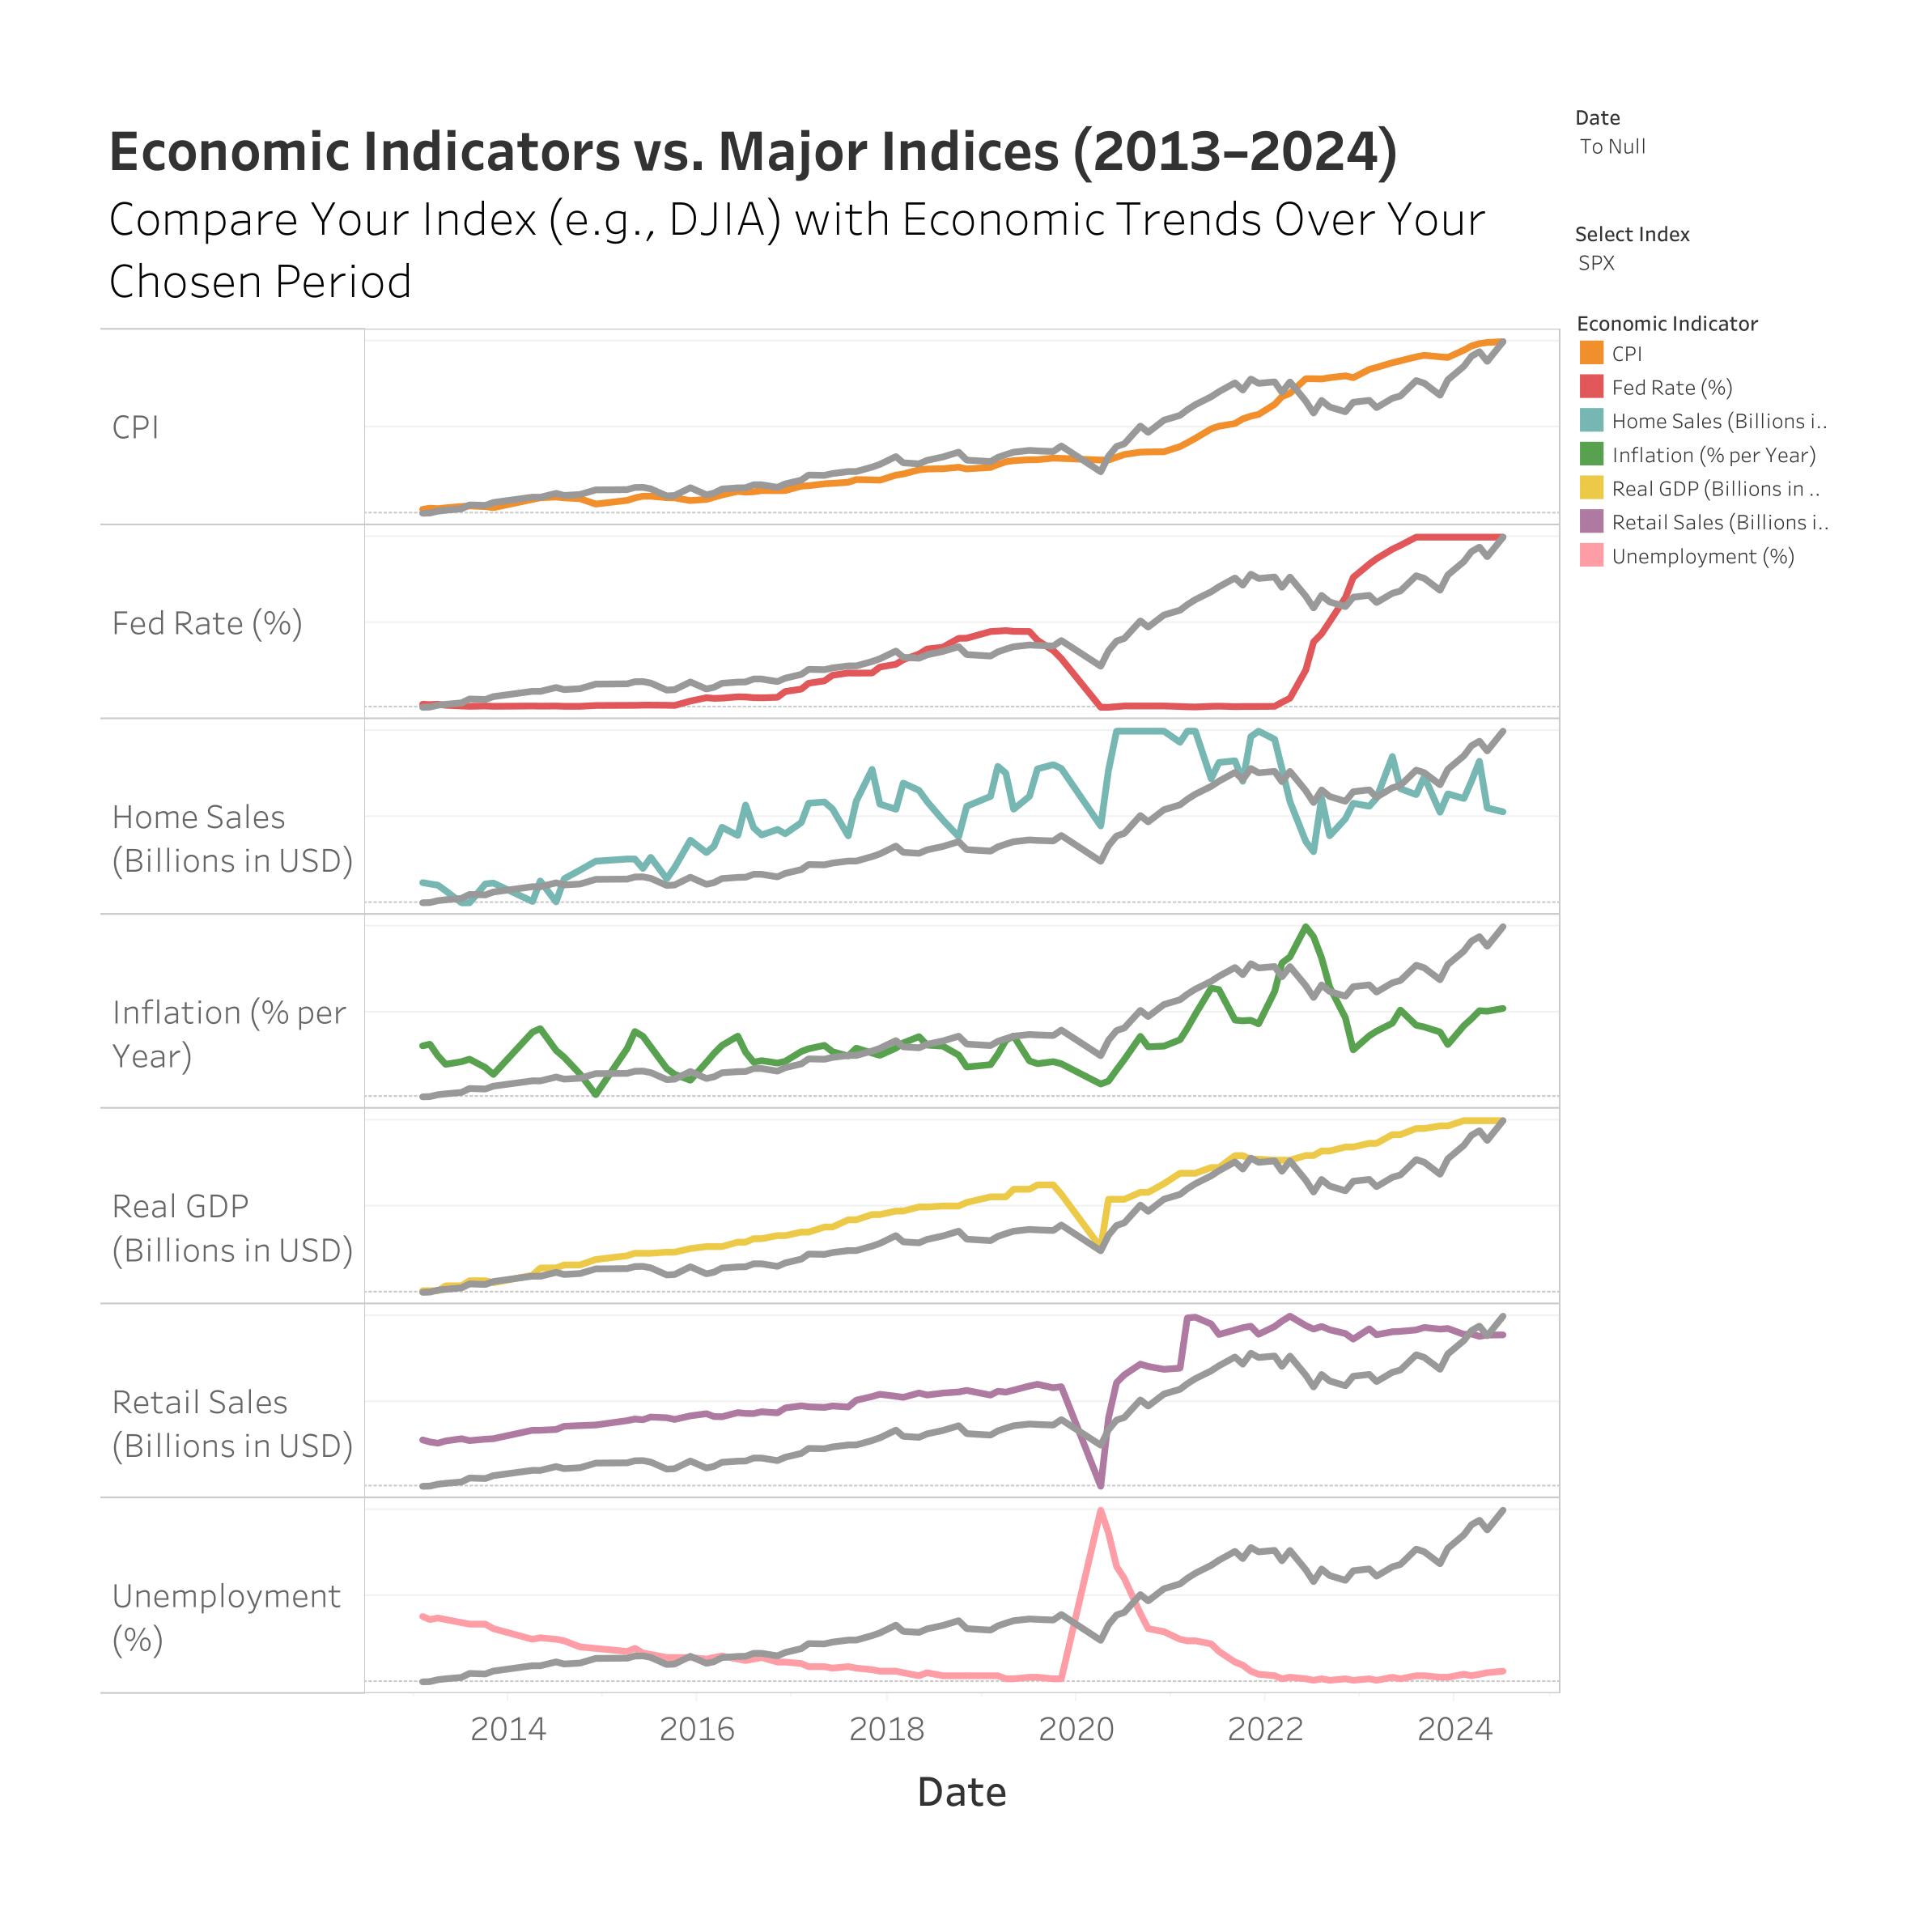

Layout of this report page (visuals, bound fields, positions):
{"tool":"tableau","page":{"name":"How do theMajor Indices correlate with monthly changes in key economic indicators (CPI, Fed Rate, Inflation, Unemploymen","canvas":[1000,800],"ordinal":4},"visuals":[{"type":"worksheet","title":"Economic Indicators vs. Major Indices (2013–2024)","mark":"Line","rows":["Pivot Field Names","Calculation_787567050924032001","Calculation_787567050933846019"],"cols":["Date"],"box":[8,8,824,784]},{"type":"filter","title":"Economic Indicators vs. Major Indices (2013–2024)","param":"[federated.1p5bmws0ryykye1blbrj21iw61q5].[none:Date:qk]","box":[832,8,160,69]},{"type":"parameter","param":"[Parameters].[Parameter 3]","box":[832,77,160,52]},{"type":"legend","title":"Economic Indicators vs. Major Indices (2013–2024)","param":"[federated.1p5bmws0ryykye1blbrj21iw61q5].[none:Pivot Field Names:nk]","box":[832,129,160,166]}]}

Visuals, with their boxes on the page's 1000x800 design canvas (x1, y1, x2, y2). These are canvas units, not pixel positions in the 1932x1932 screenshot, which may show the page scaled, cropped or inside an application window:
"Economic Indicators vs. Major Indices (2013–2024)" worksheet (Line marks): rect(8, 8, 832, 792)
"Economic Indicators vs. Major Indices (2013–2024)" filter: rect(832, 8, 992, 77)
parameter: rect(832, 77, 992, 129)
"Economic Indicators vs. Major Indices (2013–2024)" legend: rect(832, 129, 992, 295)
